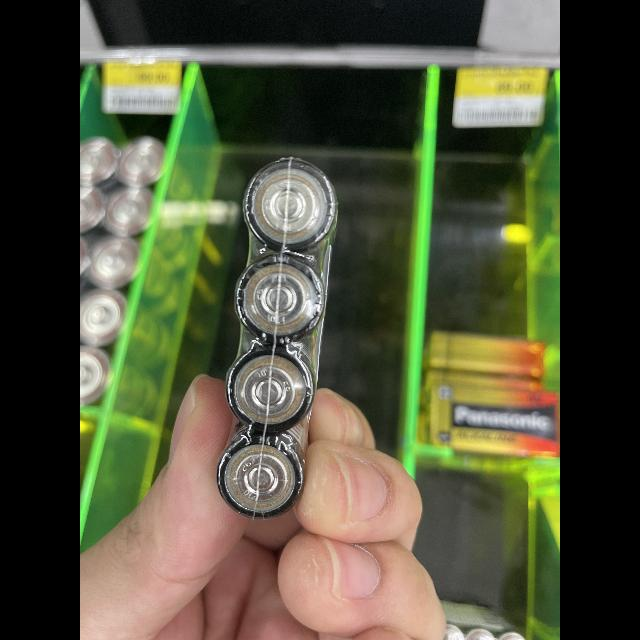battery: (240, 153, 344, 259), (202, 421, 308, 525), (232, 248, 341, 340), (215, 337, 322, 427)
